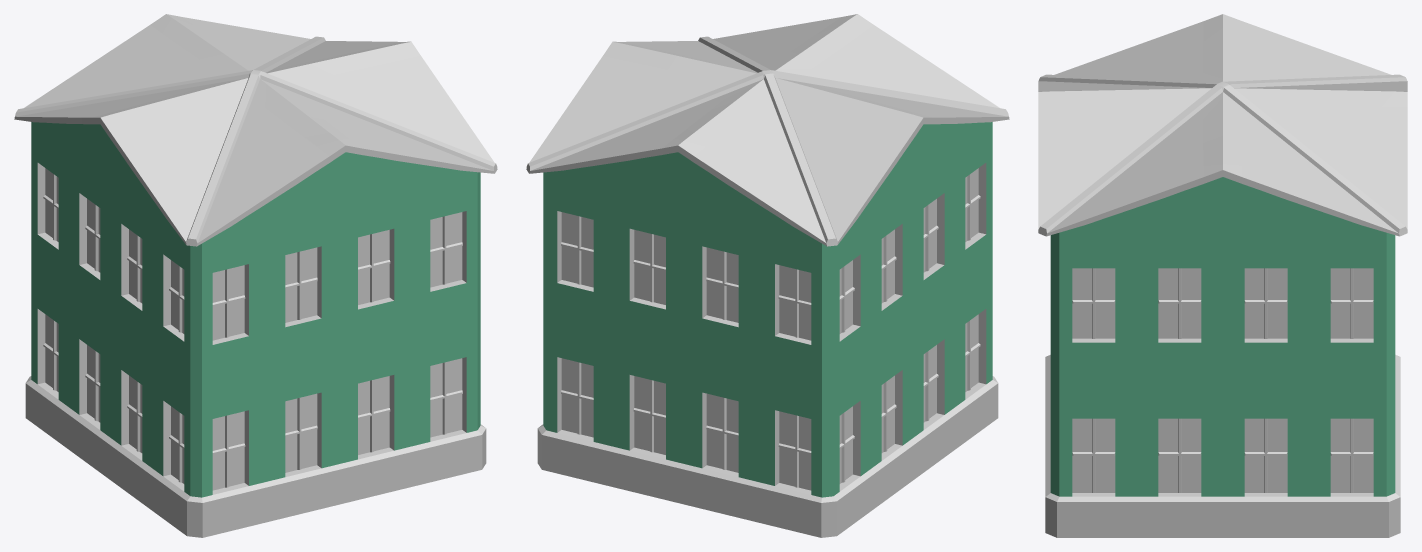
File: 4CornerBuilding_Concave.fbx
3 renders of one model, left to right at view 1: azimuth 30°, elevation 25°; view 2: azimuth 150°, elevation 25°; view 3: azimuth 270°, elevation 25°, orthographic. The views are drawn at different scales.
Visible parts, largest first — view 1: Concept13; view 2: Concept13; view 3: Concept13.
Part boxes in pixels (left/top/right/bottom): Concept13: left=14, top=14, right=497, bottom=537; Concept13: left=526, top=14, right=1009, bottom=537; Concept13: left=1038, top=14, right=1407, bottom=537.
Bounding box in the file's own units: 4.06 × 4.6 × 4.06.
